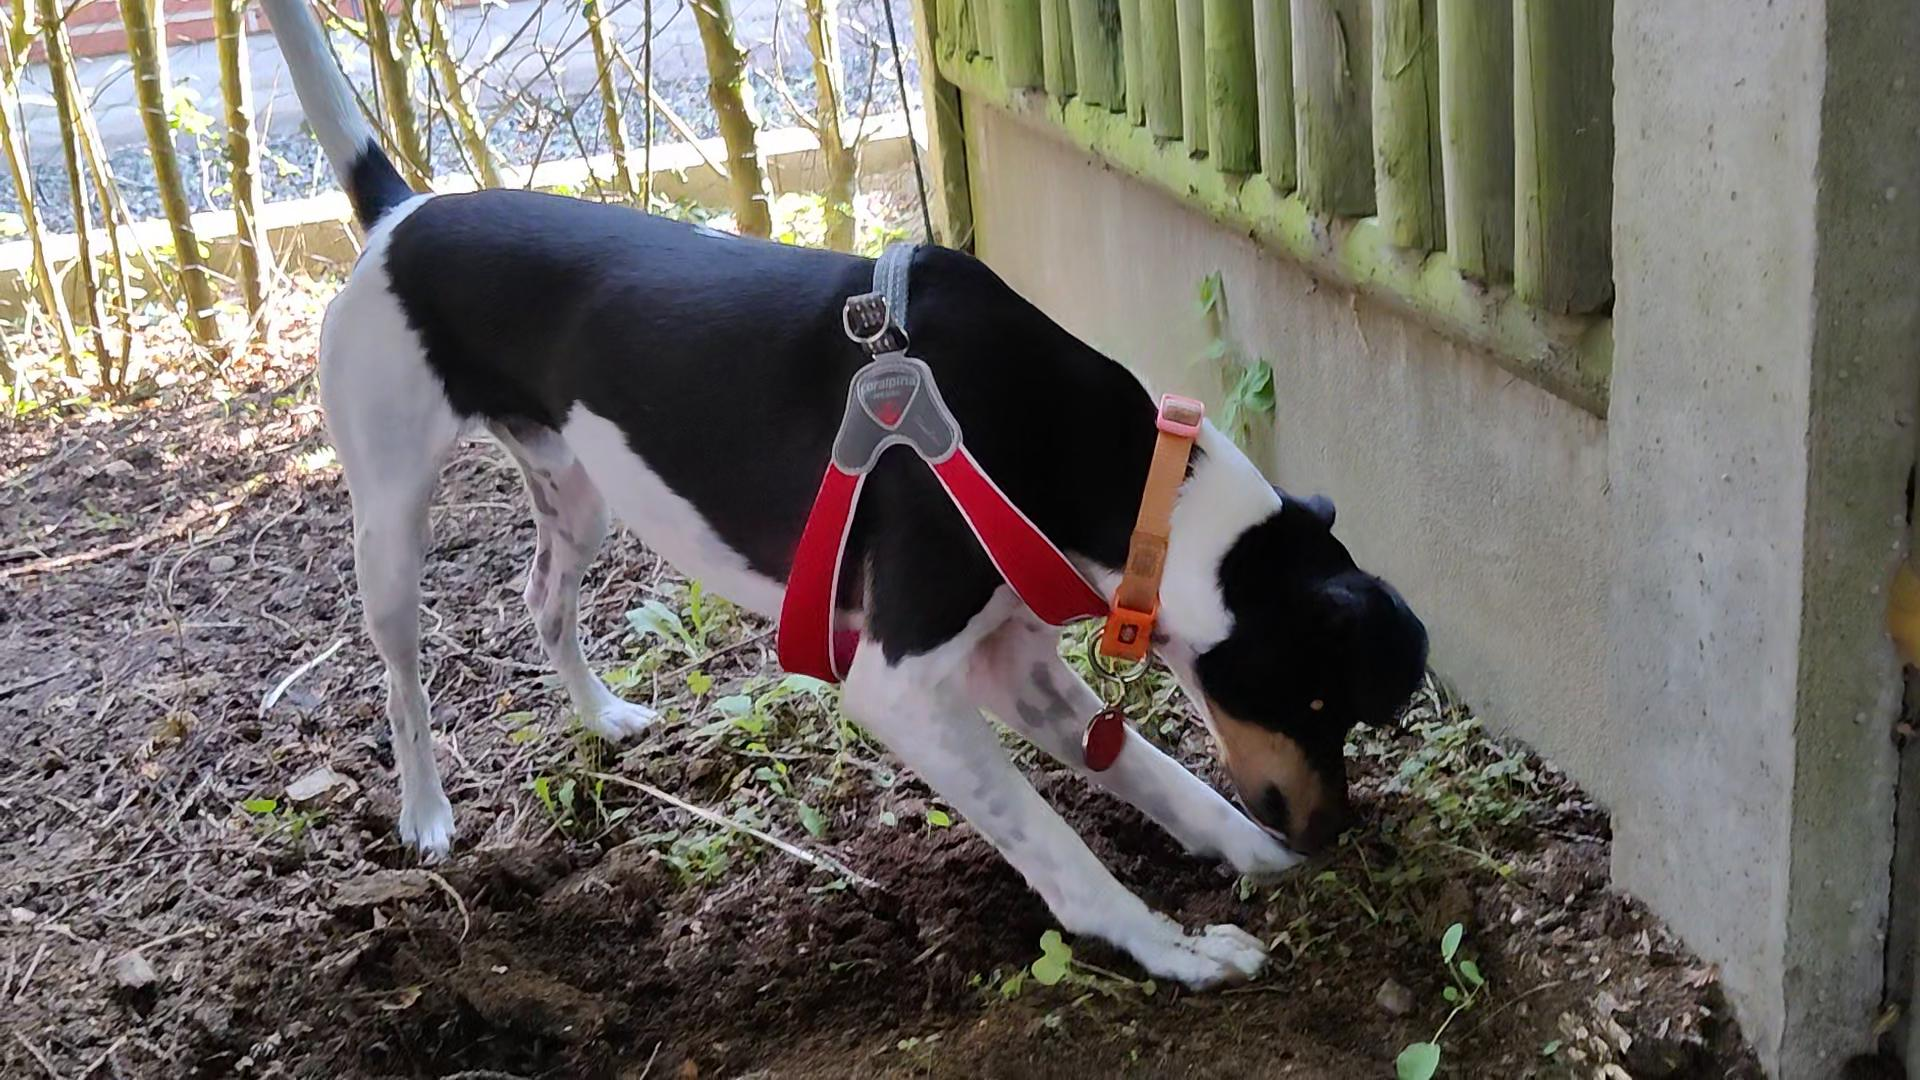Dog: (239, 0, 1441, 994)
